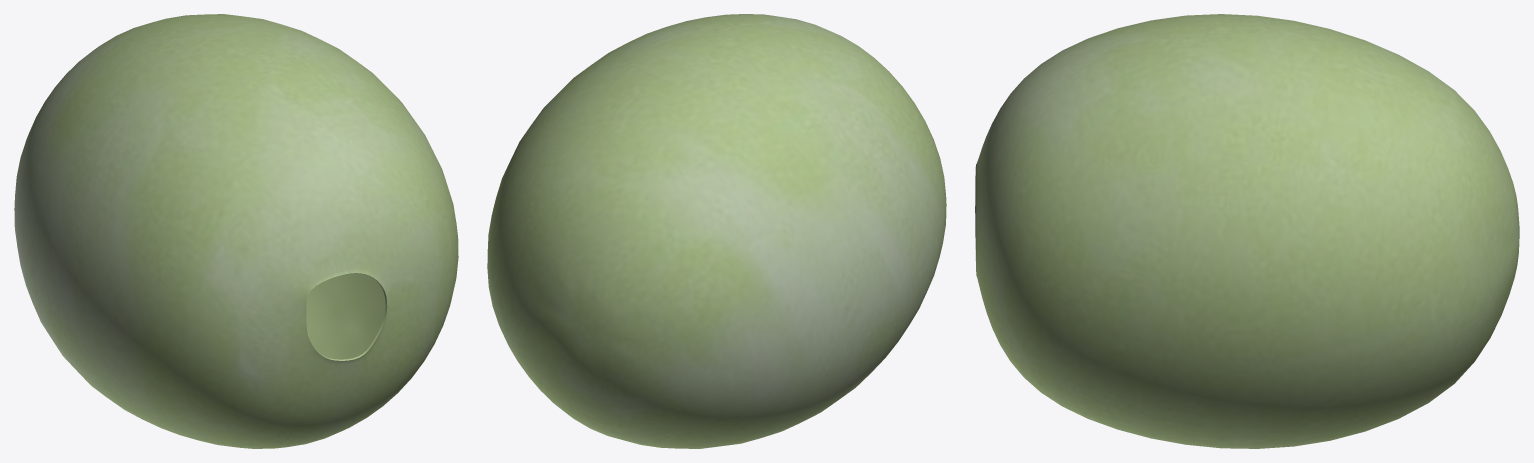
File: GreenGrapePeel.obj
3 views of the same model, side by side, from view 1: azimuth 30°, elevation 25°; view 2: azimuth 150°, elevation 25°; view 3: azimuth 270°, elevation 25° (orthographic). The views are drawn at different scales.
Visible parts, largest first — view 1: GreenGrapePeel; view 2: GreenGrapePeel; view 3: GreenGrapePeel.
Part boxes in pixels (left/top/right/bottom): GreenGrapePeel: left=14, top=14, right=458, bottom=448; GreenGrapePeel: left=487, top=14, right=946, bottom=448; GreenGrapePeel: left=975, top=14, right=1519, bottom=448.
Bounding box in the file's own units: 0.0212 × 0.0211 × 0.0261.
Materials: 1 (1 with a texture image).
